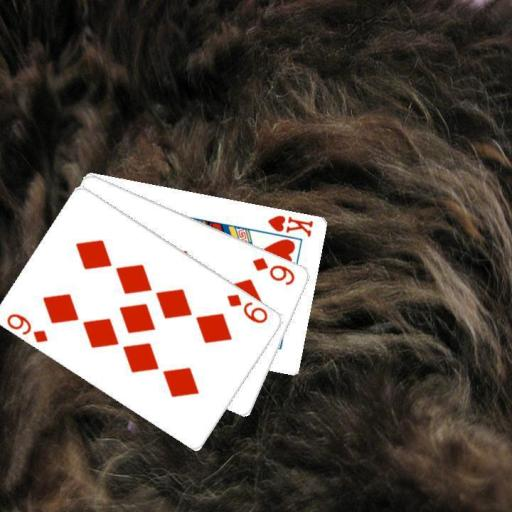card-corner: (224, 290, 270, 325), (4, 310, 50, 344), (250, 254, 297, 286), (265, 211, 315, 238)
